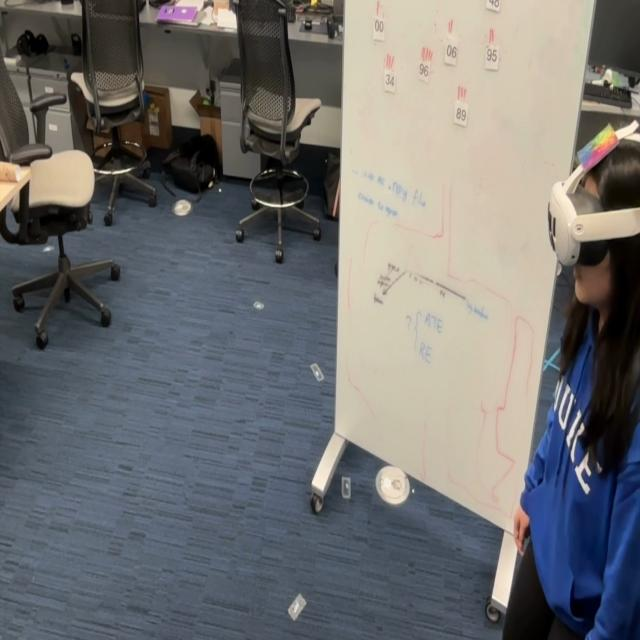Headset: (548, 155, 640, 267)
Marker: (577, 116, 620, 177)
